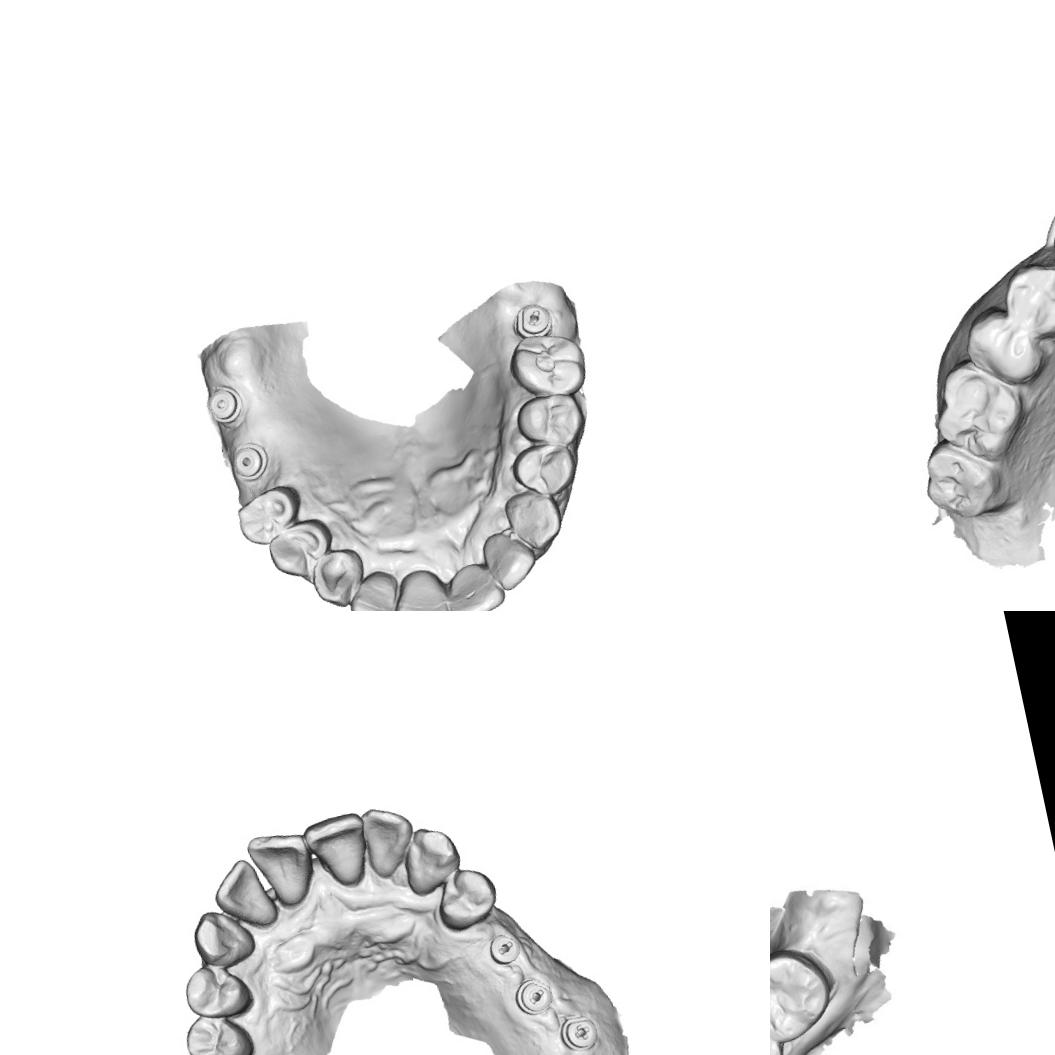canine: (396, 820, 468, 900), (187, 900, 260, 972), (500, 483, 567, 557), (304, 541, 374, 611)
implant: (202, 381, 249, 427), (228, 438, 272, 484)
implant_minus: (509, 974, 558, 1022), (484, 930, 526, 970), (512, 298, 553, 338)
implant_plus: (554, 1010, 601, 1055)
incisor: (245, 825, 324, 915), (301, 807, 377, 894), (208, 852, 282, 937), (356, 798, 422, 882), (476, 524, 542, 597), (438, 556, 510, 611), (384, 563, 455, 611), (342, 565, 407, 611)
molar: (927, 352, 1034, 470), (915, 430, 1009, 528), (503, 324, 592, 407), (770, 952, 825, 1035)
premolar: (956, 300, 1045, 397), (510, 386, 592, 456), (262, 512, 340, 584), (430, 861, 504, 935), (231, 480, 309, 550), (997, 258, 1055, 349), (506, 436, 582, 504), (179, 958, 255, 1026), (179, 1003, 258, 1055)
